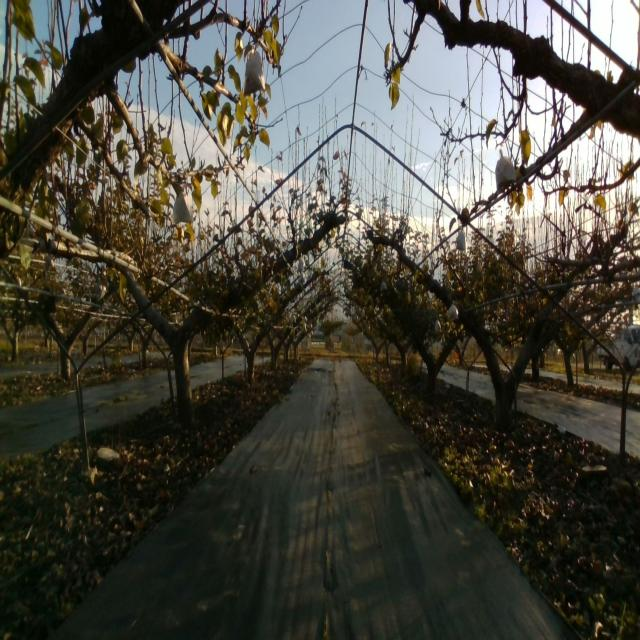pearbags: (242, 41, 266, 96), (494, 148, 516, 190), (172, 190, 194, 225), (456, 224, 466, 253), (446, 300, 459, 320)
